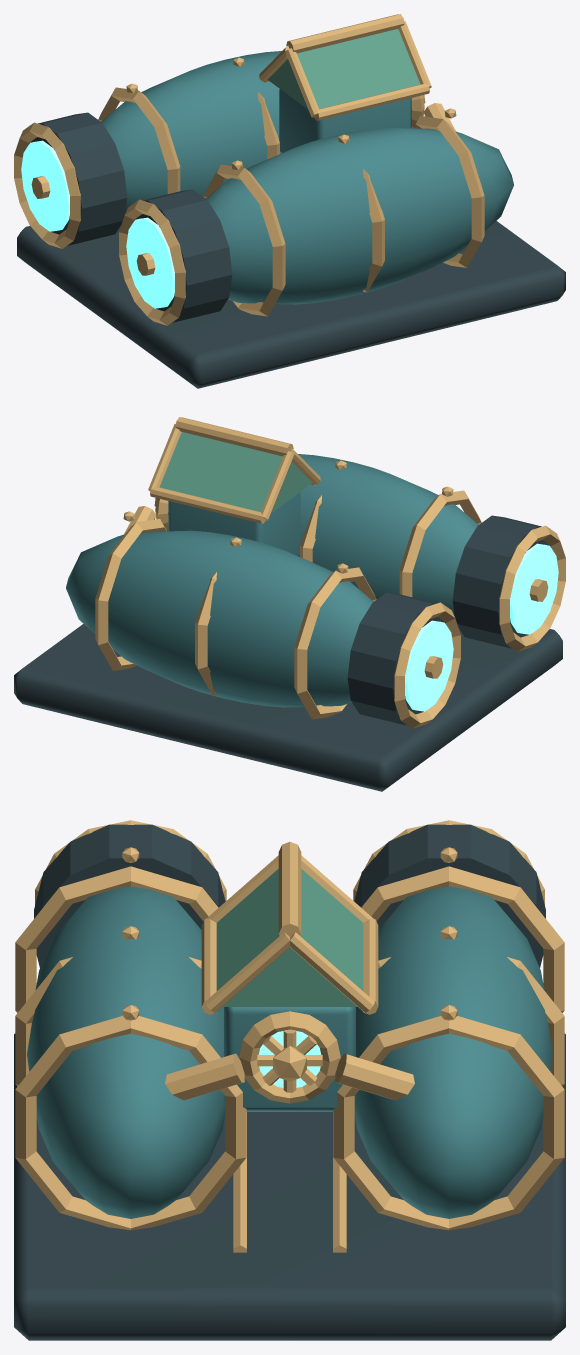
File: growth-engine.glb
3 views of the same model, one above another, from view 1: azimuth 30°, elevation 25°; view 2: azimuth 150°, elevation 25°; view 3: azimuth 270°, elevation 25° (orthographic). The views are drawn at different scales.
Visible parts, largest first — view 1: growth-engine / Paint | growth Prussian petrol enamel, growth-engine / Structure | growth blue-black wrought iron, growth-engine / Brass | growth warm machined fittings, Steep Hanseatic roof, growth-engine / Lamp | growth luminous mint glass; view 2: growth-engine / Paint | growth Prussian petrol enamel, growth-engine / Structure | growth blue-black wrought iron, growth-engine / Brass | growth warm machined fittings, Steep Hanseatic roof, growth-engine / Lamp | growth luminous mint glass; view 3: growth-engine / Structure | growth blue-black wrought iron, growth-engine / Paint | growth Prussian petrol enamel, growth-engine / Brass | growth warm machined fittings, Steep Hanseatic roof, growth-engine / Lamp | growth luminous mint glass.
Boxes of the visible parts, box(x1,y1,x2,y2) form: growth-engine / Paint | growth Prussian petrol enamel: box(101, 51, 513, 304); growth-engine / Structure | growth blue-black wrought iron: box(17, 110, 565, 388); growth-engine / Brass | growth warm machined fittings: box(14, 14, 484, 325); Steep Hanseatic roof: box(267, 29, 420, 109); growth-engine / Lamp | growth luminous mint glass: box(21, 140, 174, 308); growth-engine / Paint | growth Prussian petrol enamel: box(66, 454, 478, 707); growth-engine / Structure | growth blue-black wrought iron: box(14, 513, 562, 791); growth-engine / Brass | growth warm machined fittings: box(95, 417, 565, 728); Steep Hanseatic roof: box(159, 432, 312, 512); growth-engine / Lamp | growth luminous mint glass: box(405, 543, 558, 711); growth-engine / Structure | growth blue-black wrought iron: box(14, 824, 565, 1340); growth-engine / Paint | growth Prussian petrol enamel: box(27, 886, 552, 1218); growth-engine / Brass | growth warm machined fittings: box(15, 820, 564, 1252); Steep Hanseatic roof: box(216, 869, 363, 1006); growth-engine / Lamp | growth luminous mint glass: box(258, 1031, 321, 1087).
Size of the model in its own units: 2.74 by 1.62 by 2.22.
